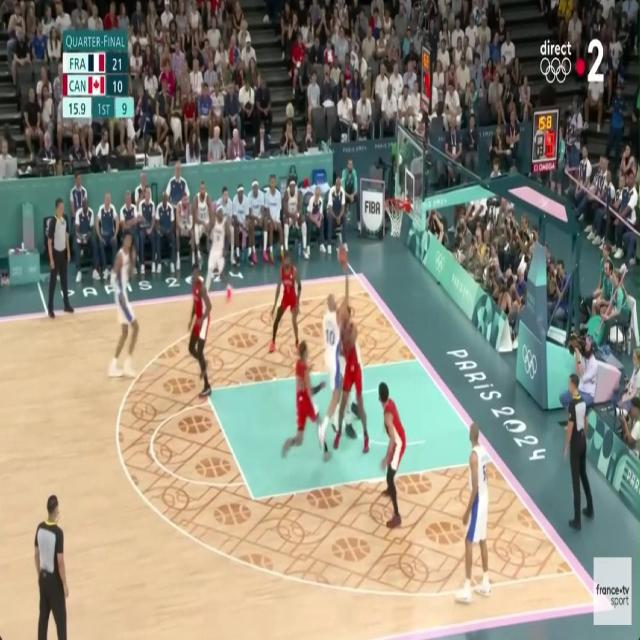ball_handler: (321, 245, 348, 447)
